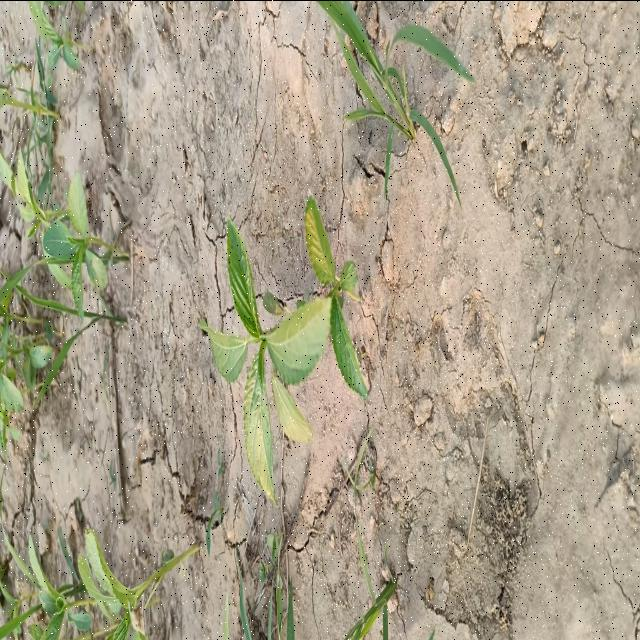plant: (200, 196, 367, 505)
